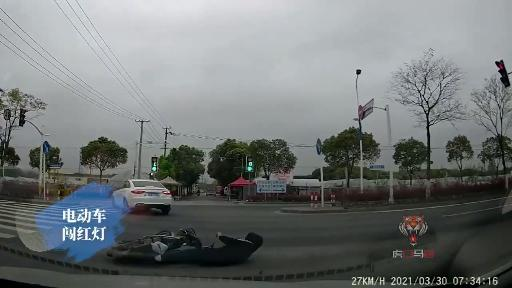Accident: (106, 225, 265, 271)
CAR: (115, 177, 176, 216)
